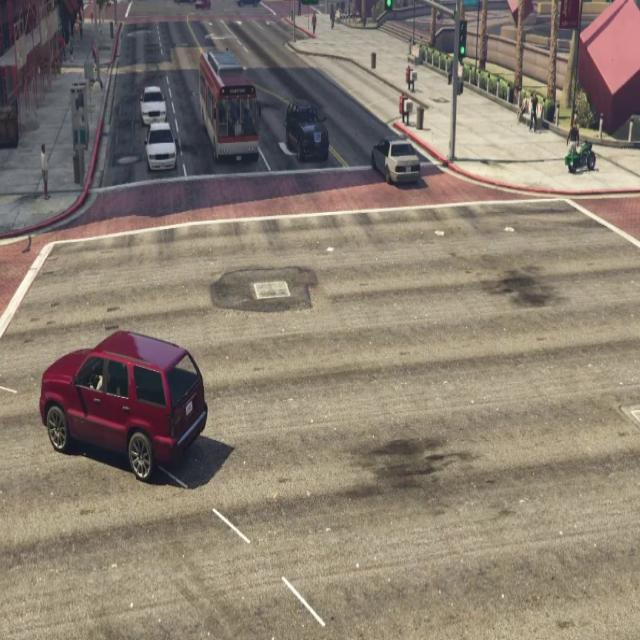Green-Signal: (454, 11, 474, 73), (381, 0, 400, 17), (299, 0, 321, 12)
